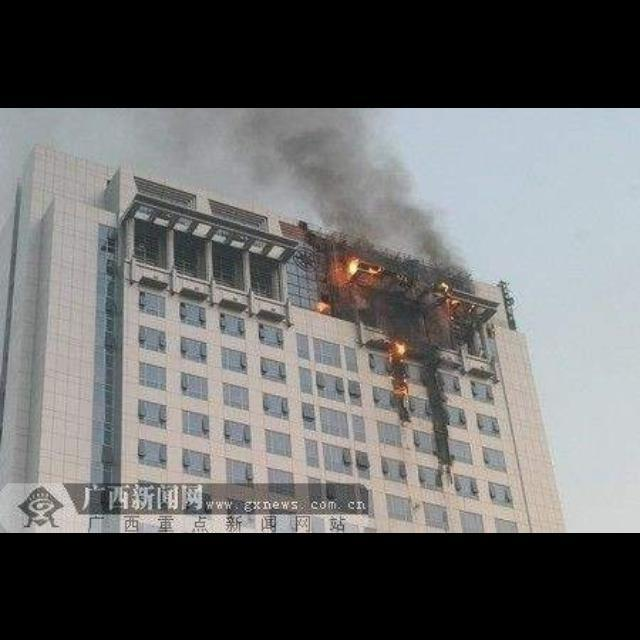Fire: (348, 256, 382, 274), (316, 299, 332, 311), (394, 341, 406, 353)
Smoke: (227, 108, 478, 296)
